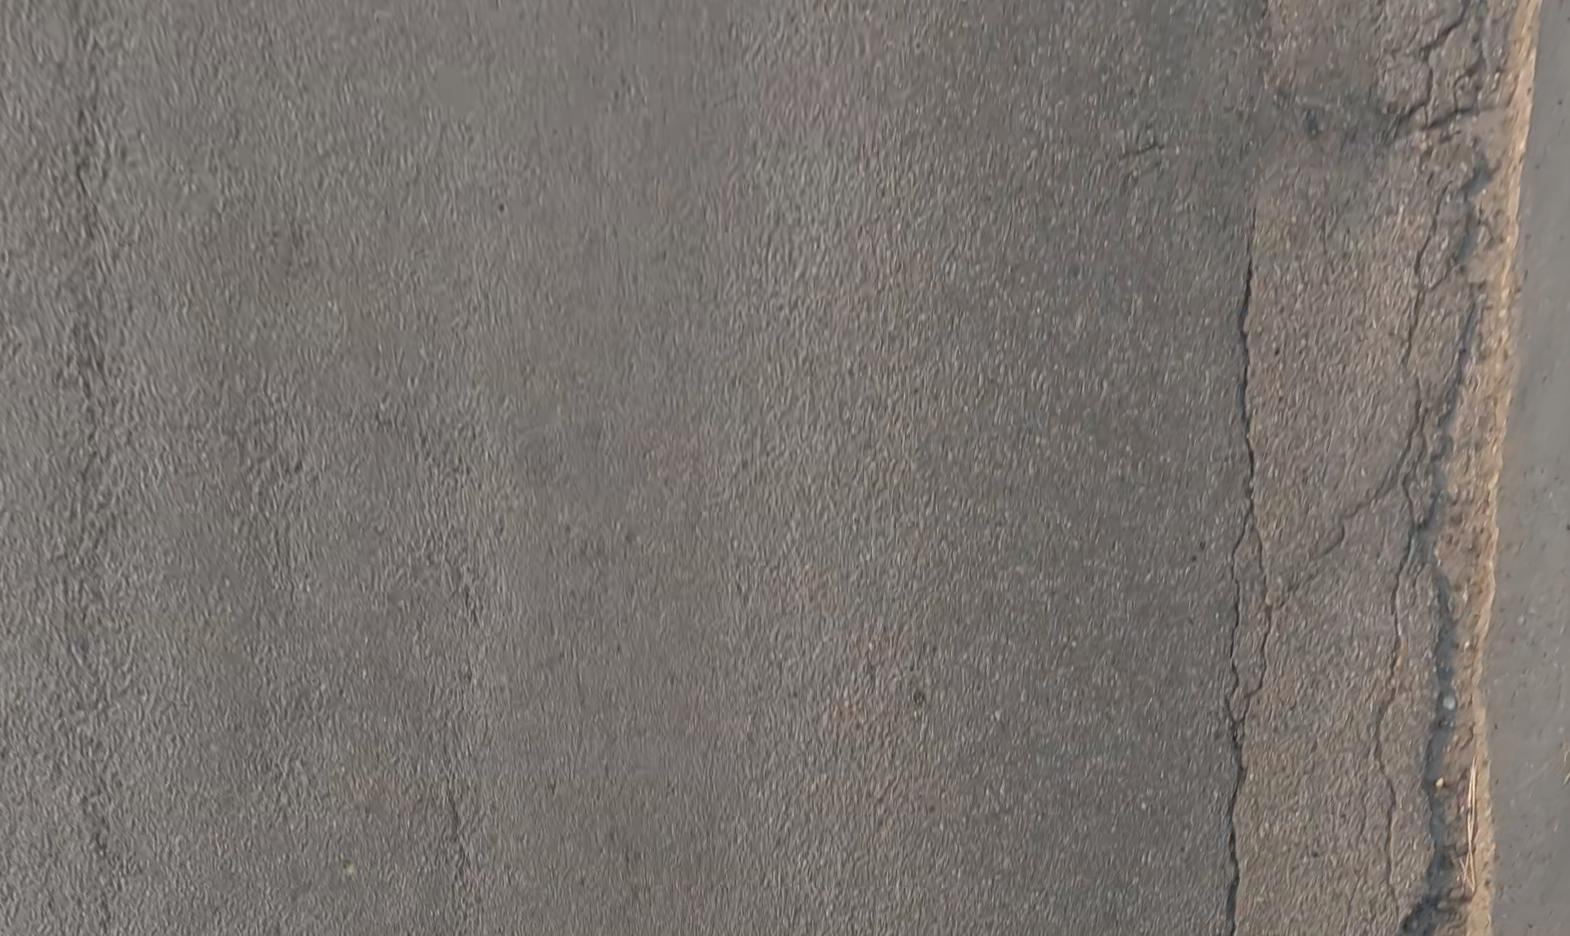pothole: (1396, 157, 1525, 934)
